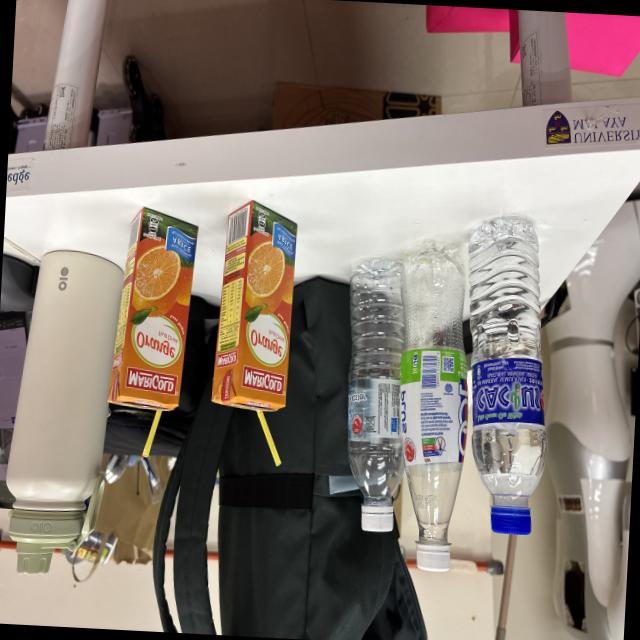drink_carton: (201, 196, 310, 474), (98, 200, 205, 469)
plastic_bottle: (444, 204, 564, 550), (376, 232, 482, 580), (329, 250, 422, 539)
